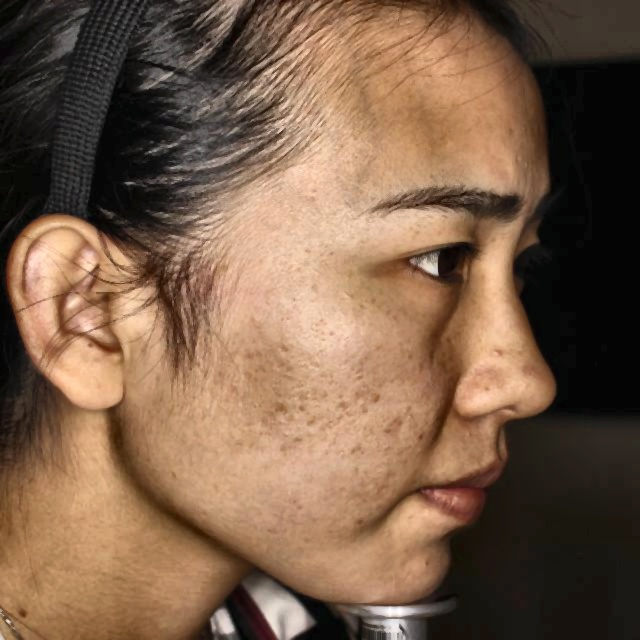comedone: (481, 340, 514, 366)
